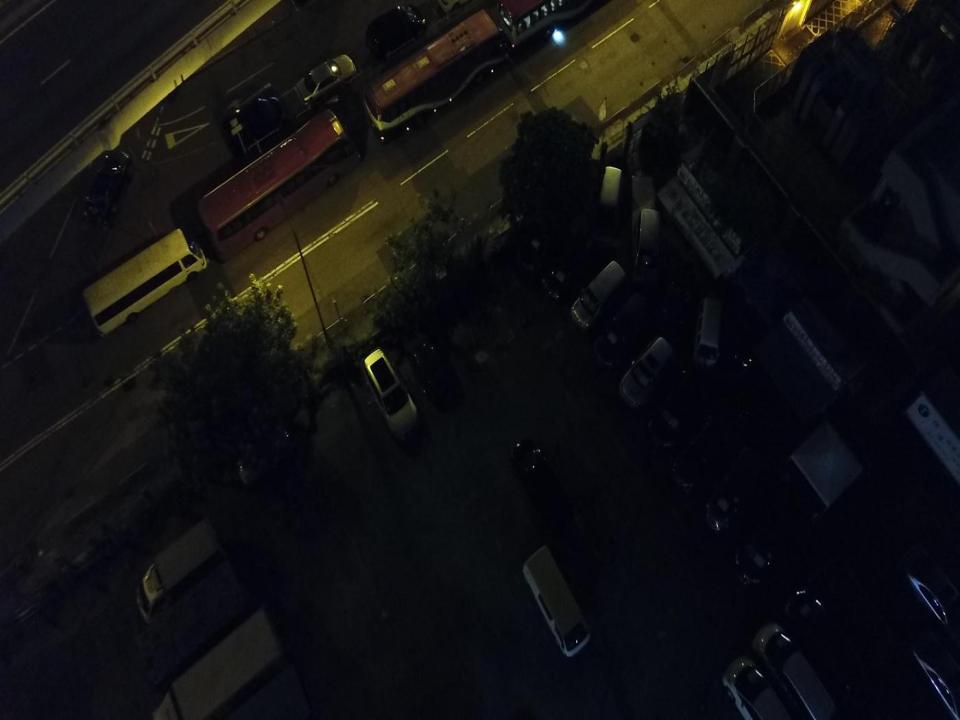bus: (198, 109, 362, 264), (363, 8, 507, 146)
car: (733, 488, 808, 587), (899, 546, 960, 654), (360, 346, 419, 440), (510, 436, 573, 524), (673, 411, 727, 493), (910, 632, 959, 719), (594, 292, 650, 368), (648, 372, 701, 451), (225, 87, 287, 154), (83, 146, 133, 227), (404, 329, 456, 404), (620, 336, 672, 411), (236, 423, 294, 489), (296, 54, 357, 105), (366, 5, 426, 56), (593, 164, 623, 240)
truck: (153, 604, 290, 719), (135, 561, 253, 692), (137, 517, 226, 625)
van: (82, 227, 207, 339), (783, 589, 870, 703), (750, 623, 837, 719), (522, 545, 590, 656), (705, 447, 761, 534), (720, 655, 792, 719), (570, 260, 625, 330), (540, 236, 592, 298), (631, 206, 661, 286), (693, 297, 722, 367)
